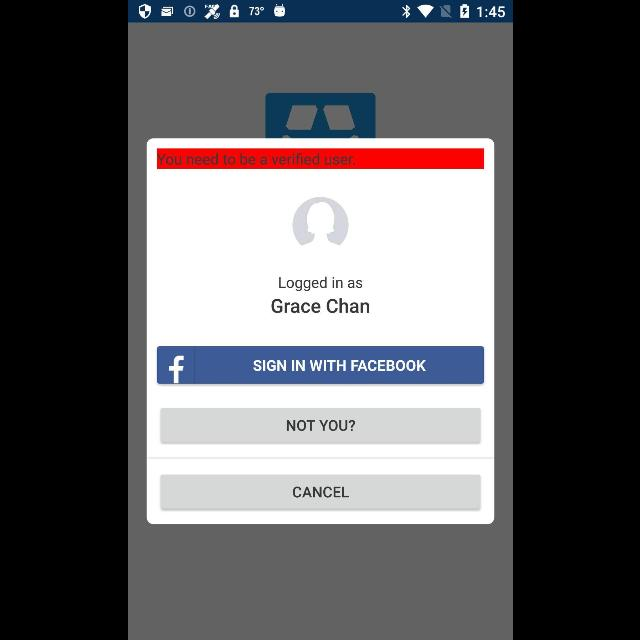icon: (293, 198, 347, 252)
panel: (146, 138, 494, 524)
text: (156, 153, 354, 165), (270, 297, 370, 317), (278, 272, 362, 292)
textbutton: (156, 346, 484, 384), (160, 475, 480, 511), (160, 408, 480, 444)
uppertaskbar: (128, 1, 512, 23)
